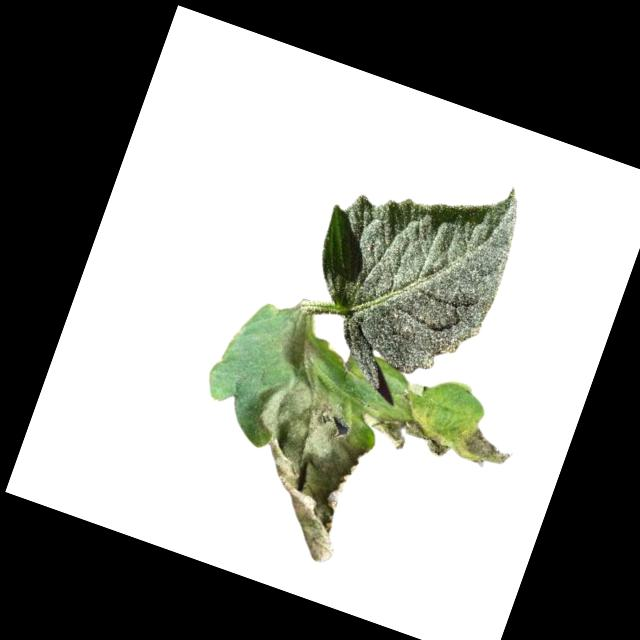Late_blight: (215, 366, 387, 567), (362, 398, 457, 466), (273, 310, 335, 382), (448, 416, 518, 475), (394, 376, 431, 414)
healthy: (279, 131, 532, 416)
